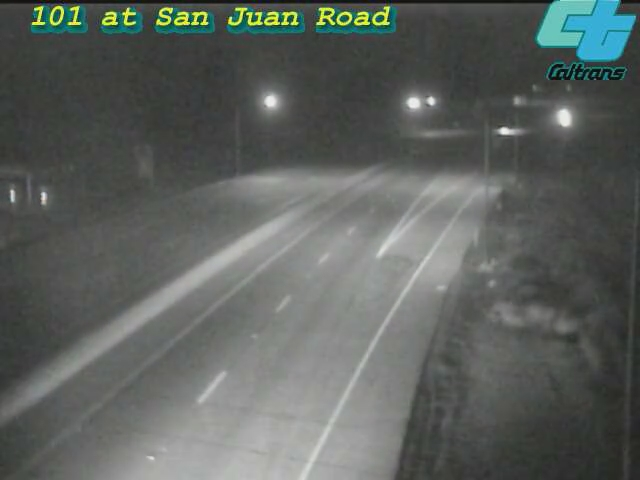vehicle: (482, 106, 532, 156), (534, 93, 584, 143)
